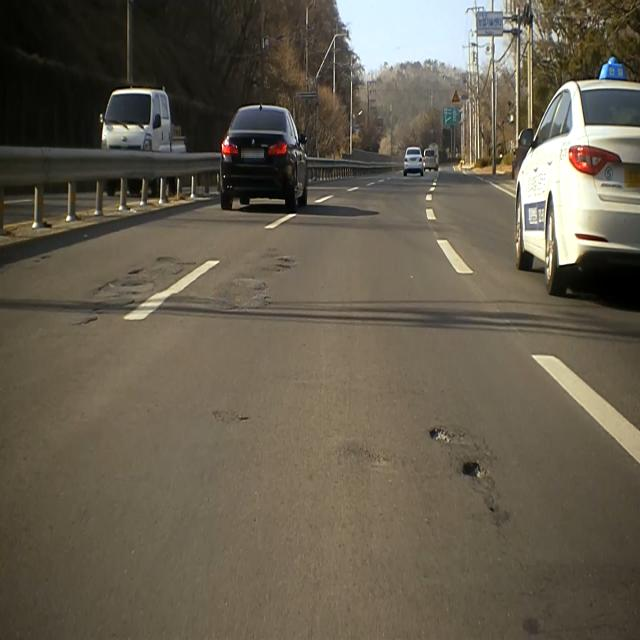Pothole: (73, 248, 189, 343), (424, 417, 493, 489)
